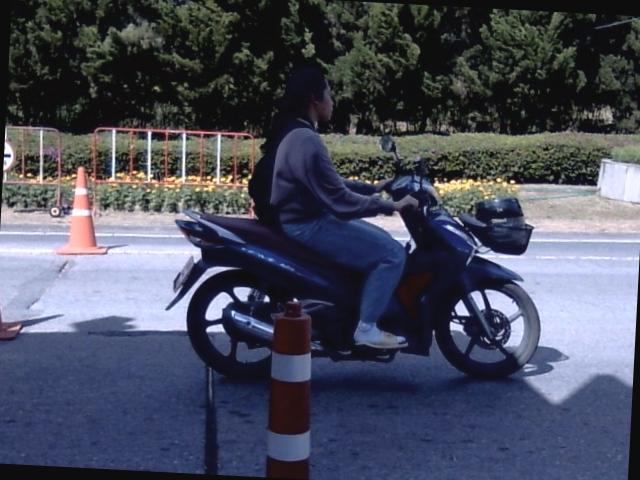motor: (166, 159, 540, 377)
no-helmet: (277, 63, 333, 125)
person: (249, 66, 417, 349)
